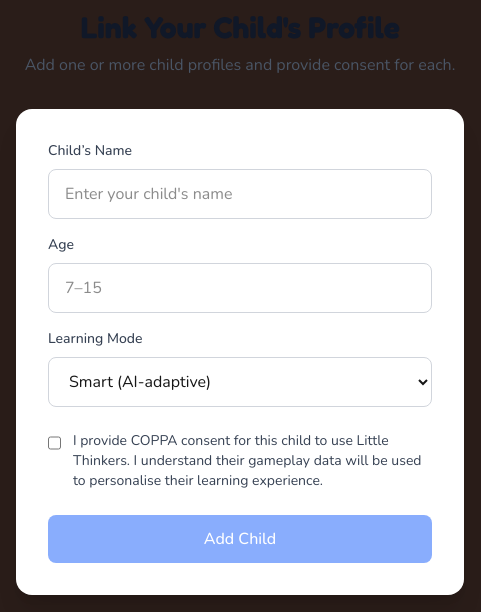
Test case: ChildSetupPage — Story 2.1 AC1 + AC2 › submit button is enabled when all required fields are filled and COPPA checked (AC2)
In the field labelled "Child’s Name": (240, 194) [48, 169, 432, 219], type "Sam"
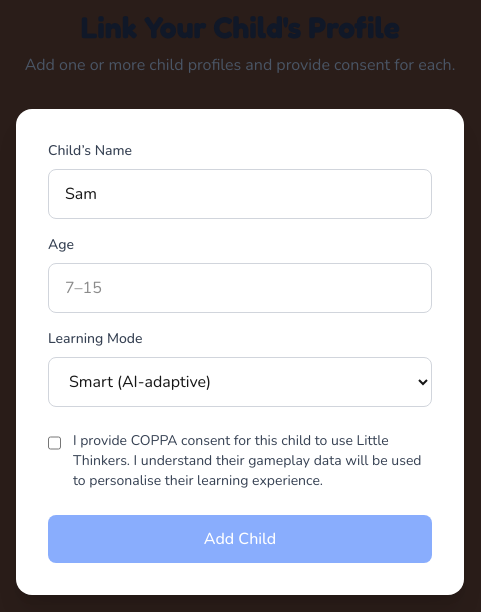
In the number field labelled "Age": (240, 288) [48, 263, 432, 313], type "10"
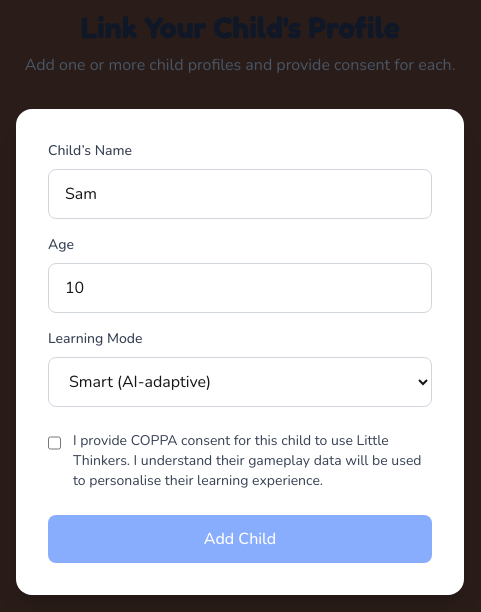
Click the checkbox labelled "COPPA": (54, 443) [48, 435, 61, 451]
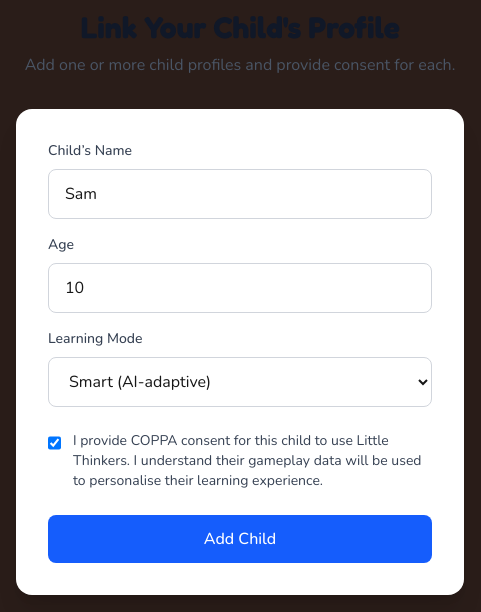
Result: the button "Add Child" is enabled at [48, 515, 432, 563]
